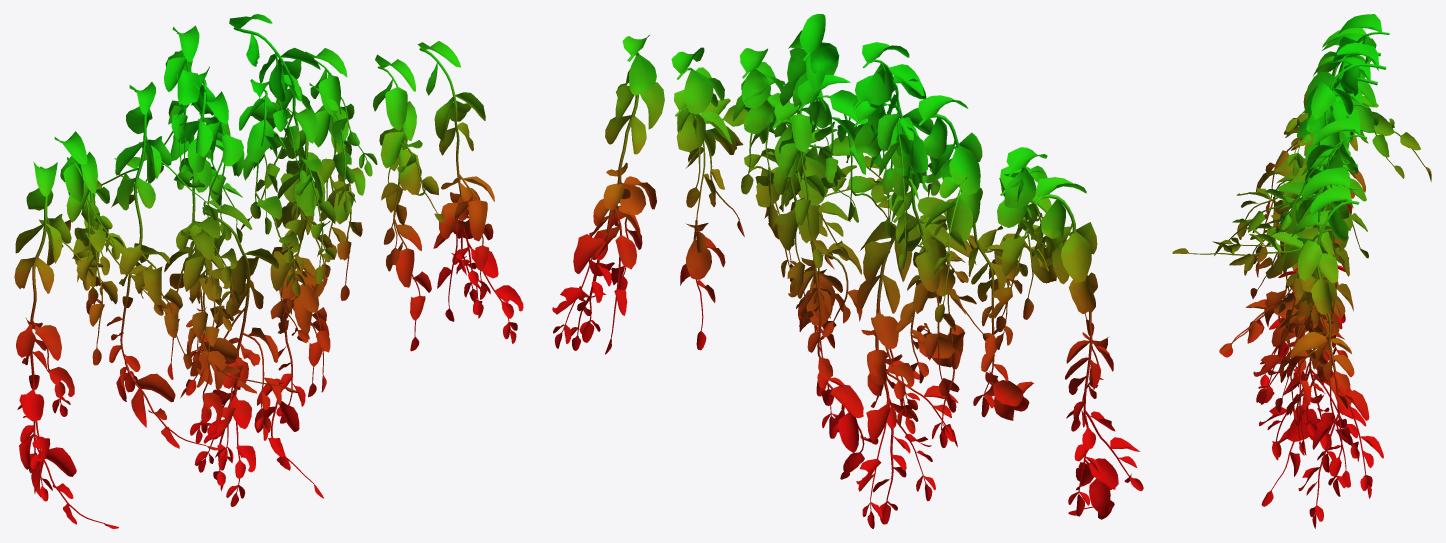
File: Var6_LOD0.fbx
3 views of the same model, side by side, from view 1: azimuth 30°, elevation 25°; view 2: azimuth 150°, elevation 25°; view 3: azimuth 270°, elevation 25° (orthographic). The views are drawn at different scales.
Parts seen in each view (by area): view 1: _1d2q_Var6_LOD0; view 2: _1d2q_Var6_LOD0; view 3: _1d2q_Var6_LOD0.
Part boxes in pixels (x1,y1,x2,y2): _1d2q_Var6_LOD0: [14, 14, 523, 528]; _1d2q_Var6_LOD0: [552, 14, 1143, 528]; _1d2q_Var6_LOD0: [1172, 14, 1431, 528].
Bounding box in the file's own units: 110 × 95.89 × 50.13.
